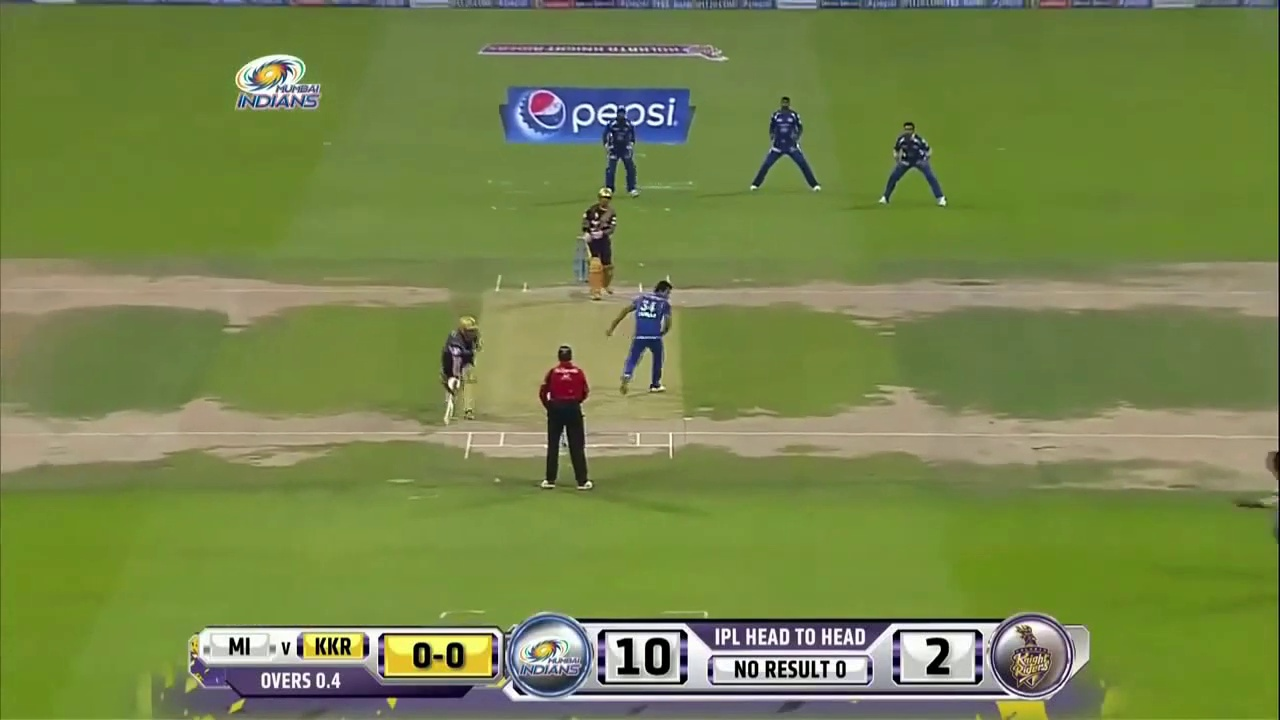bat: (443, 395, 455, 424)
